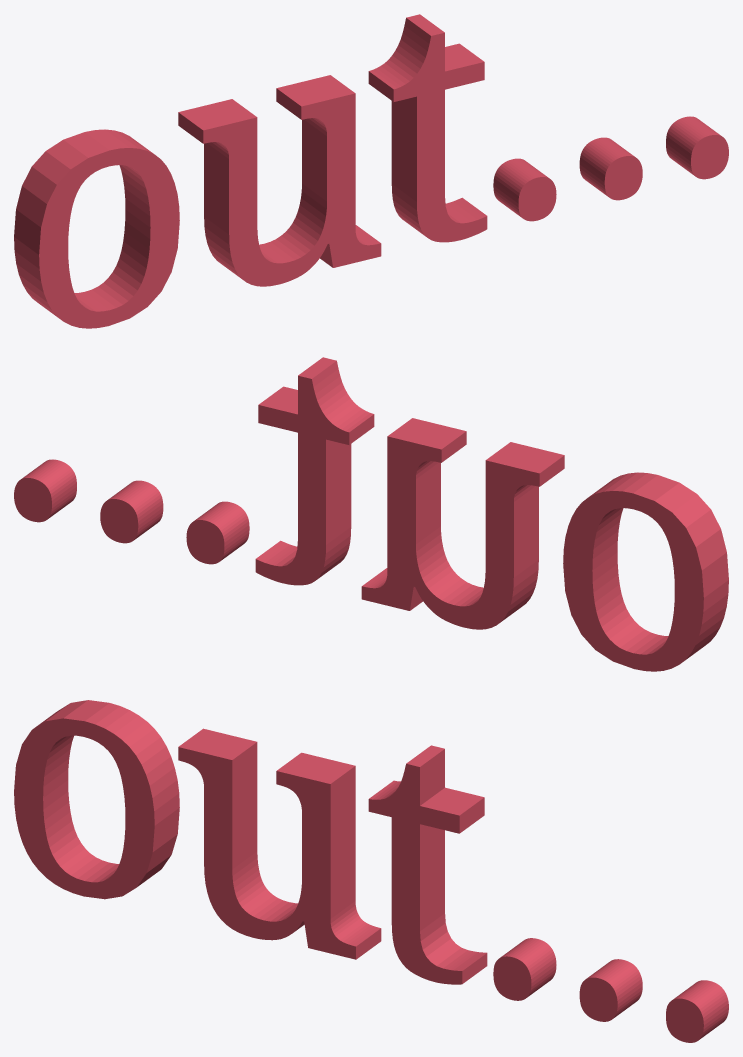
3 renders of one model, top to bottom at view 1: azimuth 30°, elevation 25°; view 2: azimuth 150°, elevation 25°; view 3: azimuth 330°, elevation 25°, orthographic.
Parts seen in each view (by area): view 1: tinker:group_0_15277357; view 2: tinker:group_0_15277357; view 3: tinker:group_0_15277357.
Part boxes in pixels (x1,y1,x2,y2): tinker:group_0_15277357: [14, 14, 728, 328]; tinker:group_0_15277357: [14, 357, 728, 671]; tinker:group_0_15277357: [14, 700, 728, 1042].
Bounding box in the file's own units: 63.52 × 18.6 × 4.
